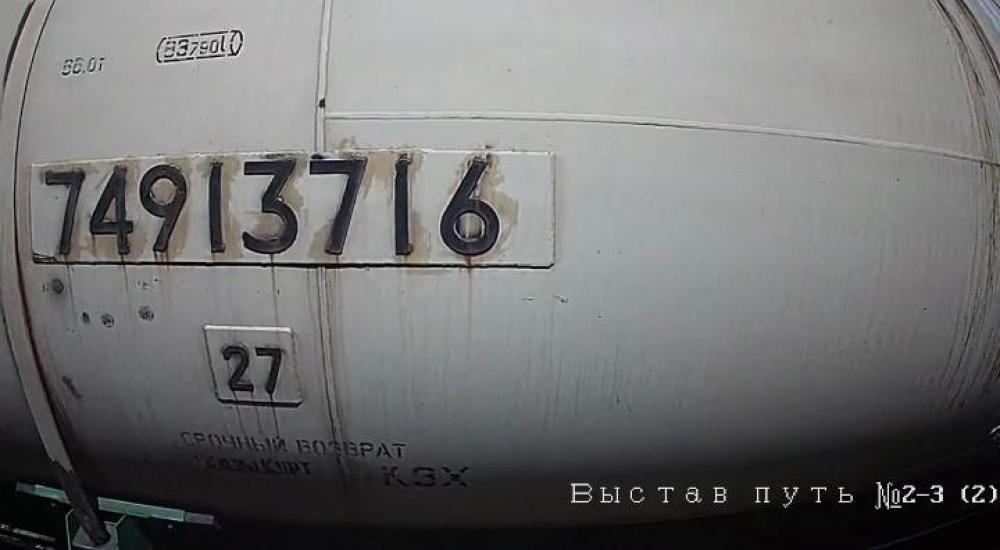Wagon-number: (36, 153, 506, 266)
